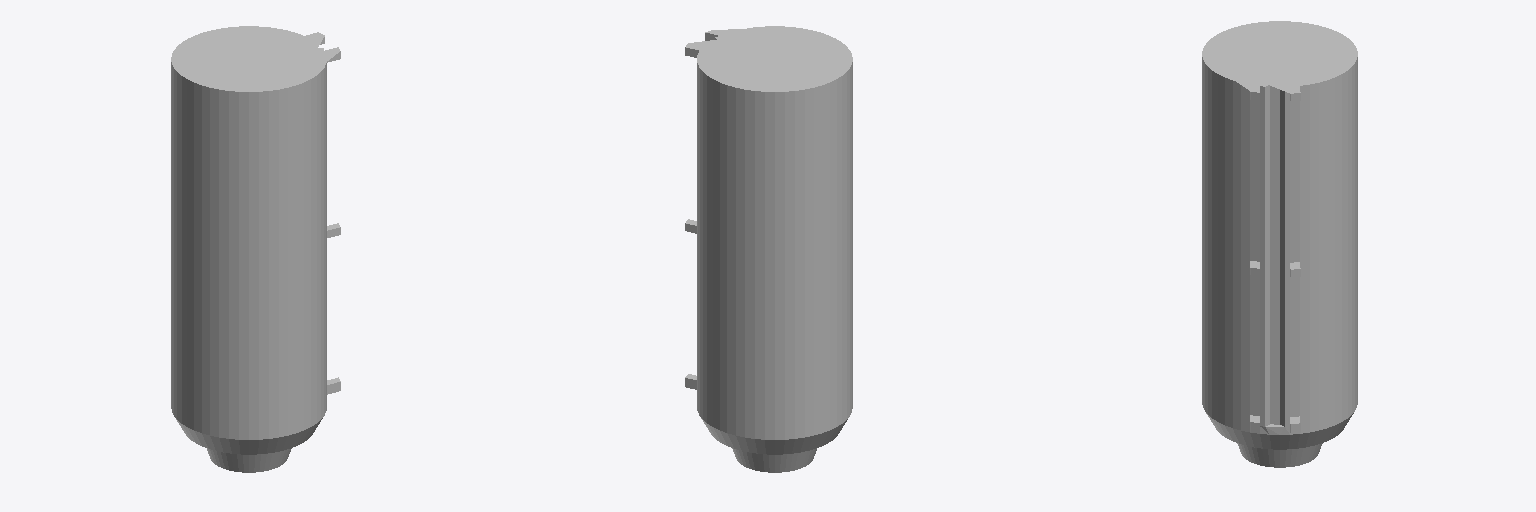
Rendered from Fuel Pod.obj.
The picture shows the model from 3 angles: view 1: azimuth 30°, elevation 25°; view 2: azimuth 150°, elevation 25°; view 3: azimuth 270°, elevation 25°; orthographic projection.
Visible parts, largest first — view 1: Cylinder.001; view 2: Cylinder.001; view 3: Cylinder.001.
Boxes of the visible parts, x1,y1,x2,y2 form: Cylinder.001: [171, 26, 340, 472]; Cylinder.001: [685, 26, 852, 472]; Cylinder.001: [1202, 21, 1357, 467].
Bounding box in the file's own units: 577 × 1471 × 524.